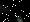person: (1, 1, 27, 22)
